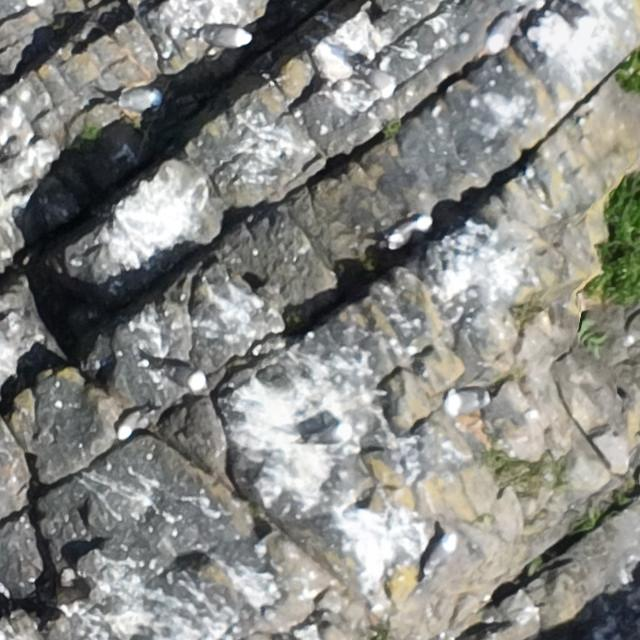umineko: (485, 7, 522, 56), (111, 86, 167, 113), (389, 215, 432, 249), (428, 536, 454, 570), (165, 366, 204, 388), (308, 425, 353, 444), (210, 27, 250, 47), (448, 392, 486, 413), (359, 66, 394, 88), (118, 410, 144, 437)
